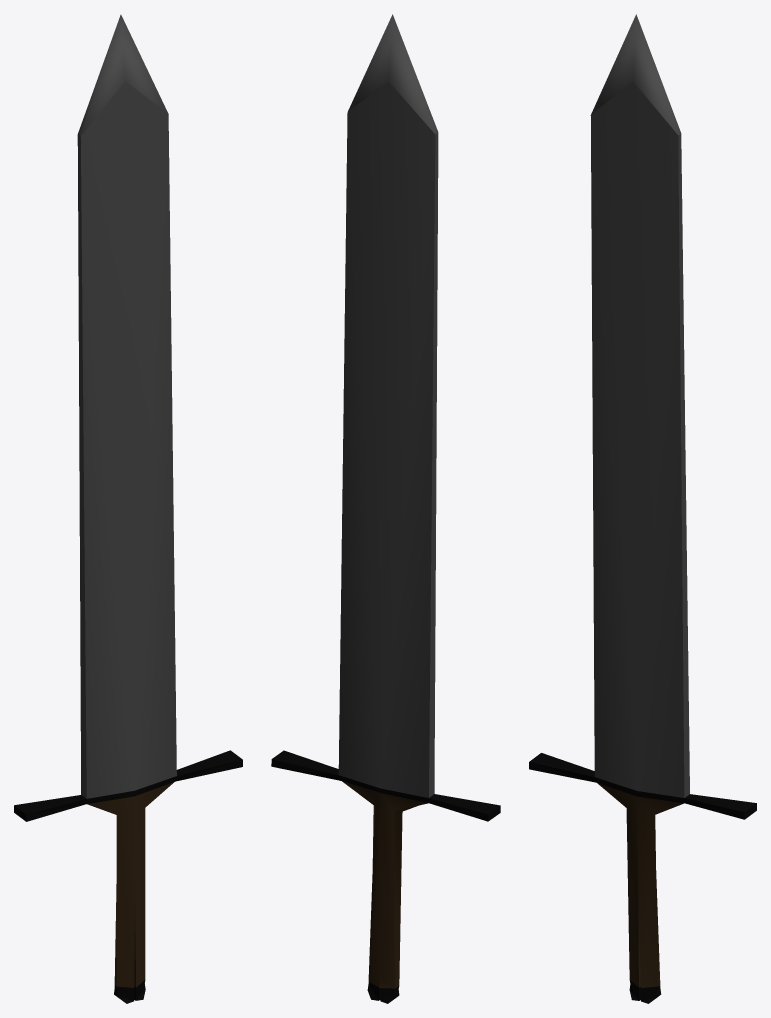
File: Arma_Paladin.fbx
3 views of the same model, side by side, from view 1: azimuth 30°, elevation 25°; view 2: azimuth 150°, elevation 25°; view 3: azimuth 330°, elevation 25° (orthographic).
Parts seen in each view (by area): view 1: Box003; view 2: Box003; view 3: Box003.
Part boxes in pixels (<box>): Box003: <box>14,14,242,1003</box>; Box003: <box>271,14,500,1003</box>; Box003: <box>529,14,756,1003</box>.
Size of the model in its own units: 0.4357 by 1.9 by 0.043.
